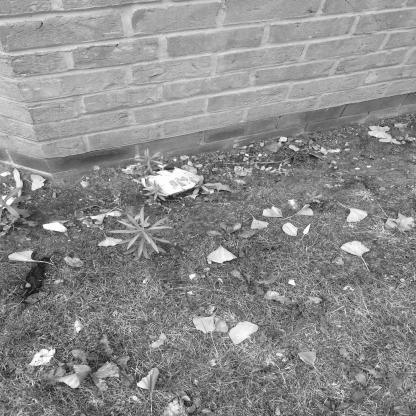plastic: (132, 158, 209, 202)
